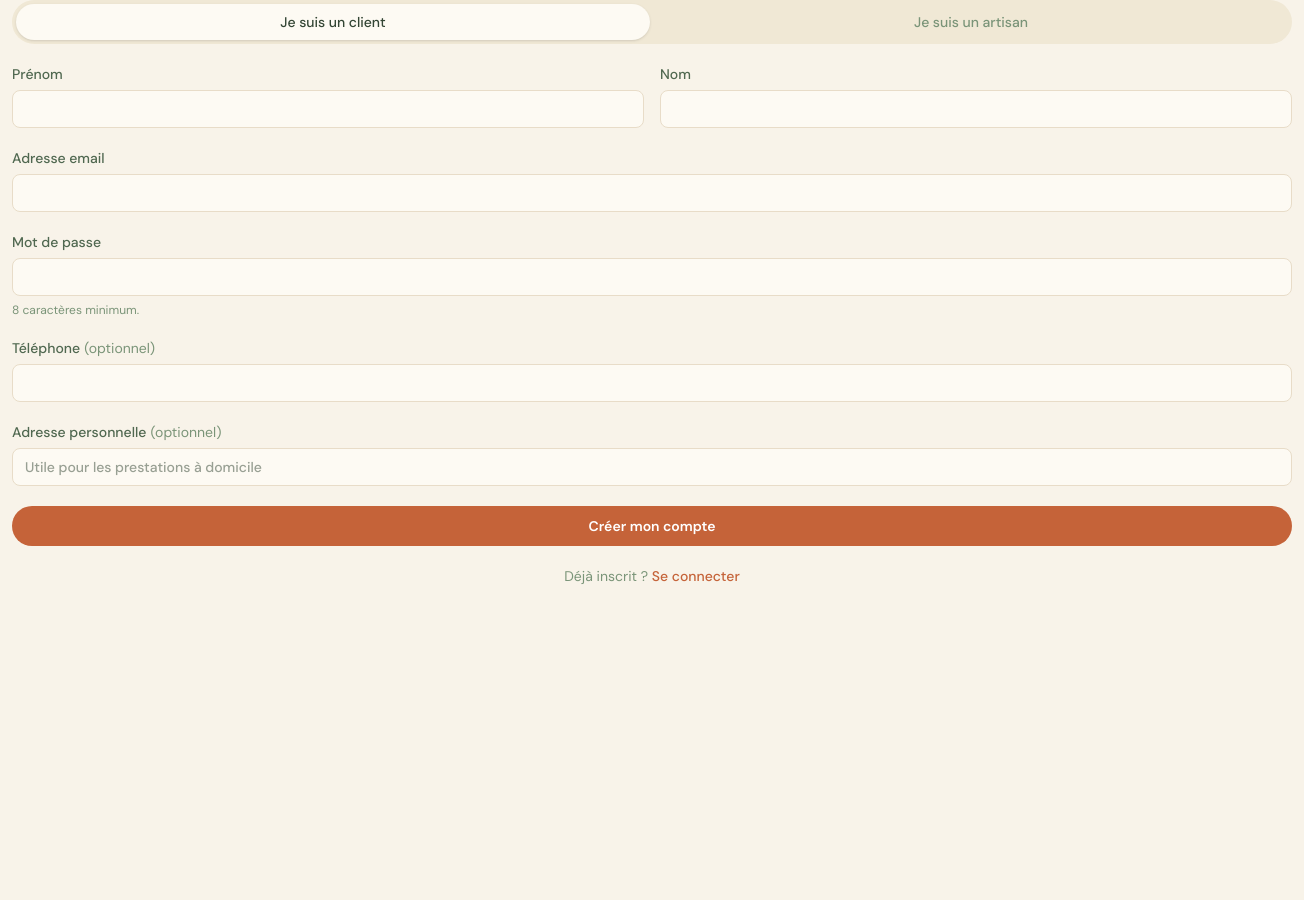
RegisterForm › switches to the artisan fields when selected
Click the button "Je suis un artisan".
click(971, 22)  # box [654,4,1288,40]
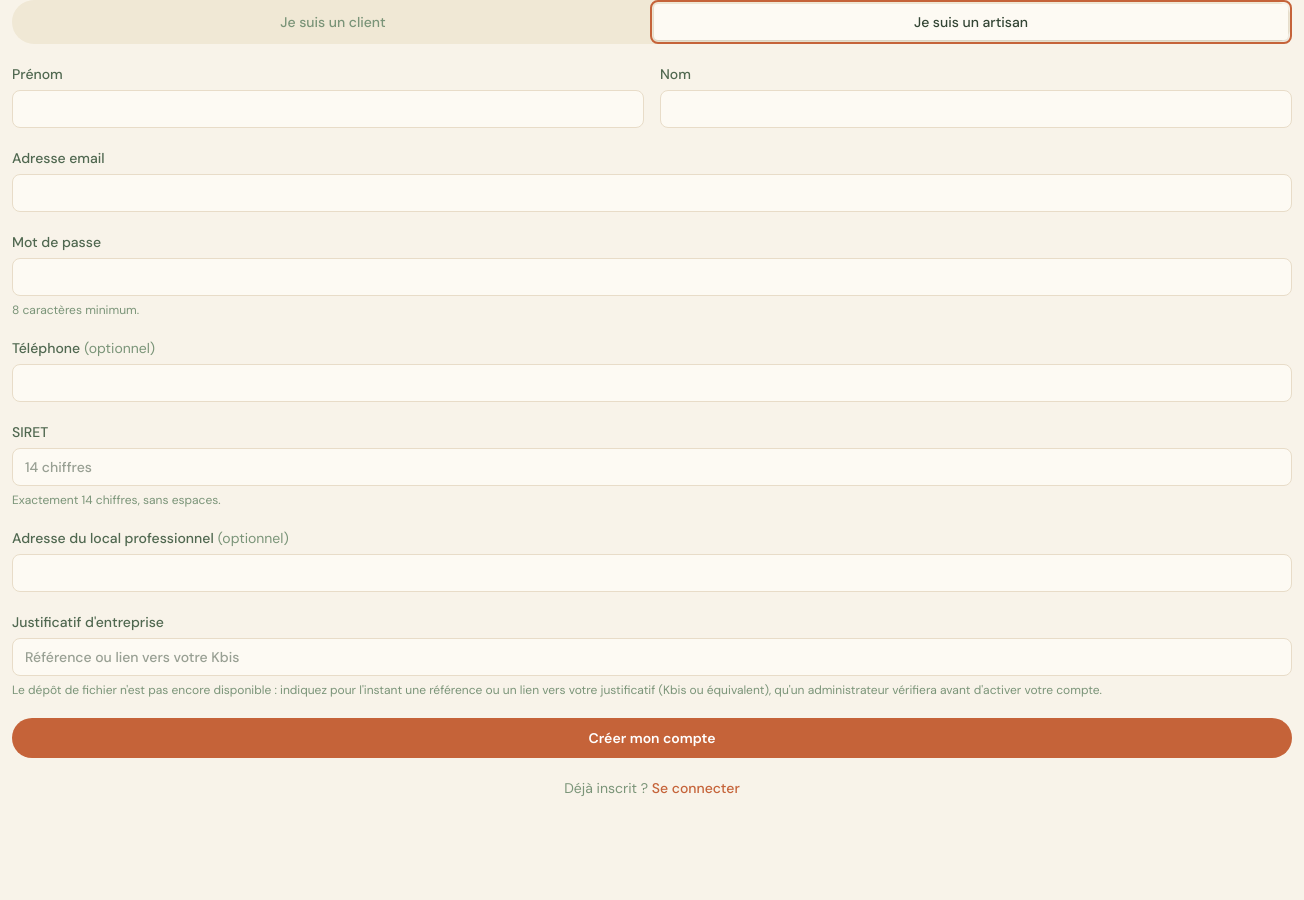
Expected: the field labelled "SIRET Exactement 14 chiffres, sans espaces." is shown, [12,448,1292,486]
Expected: the field labelled "Adresse du local professionnel(optionnel)" is shown, [12,554,1292,592]
Expected: the field labelled "Justificatif d'entreprise" is shown, [12,638,1292,676]
